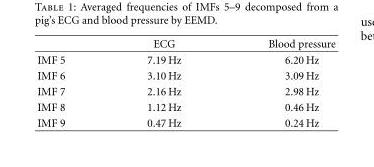table: (36, 37, 334, 128)
table column: (105, 37, 223, 128), (223, 37, 334, 128), (36, 37, 105, 128)
table column header: (36, 37, 334, 51)
table row: (36, 51, 334, 67), (36, 67, 334, 83), (36, 98, 334, 114), (36, 83, 334, 98), (36, 37, 334, 51), (36, 114, 334, 128)
